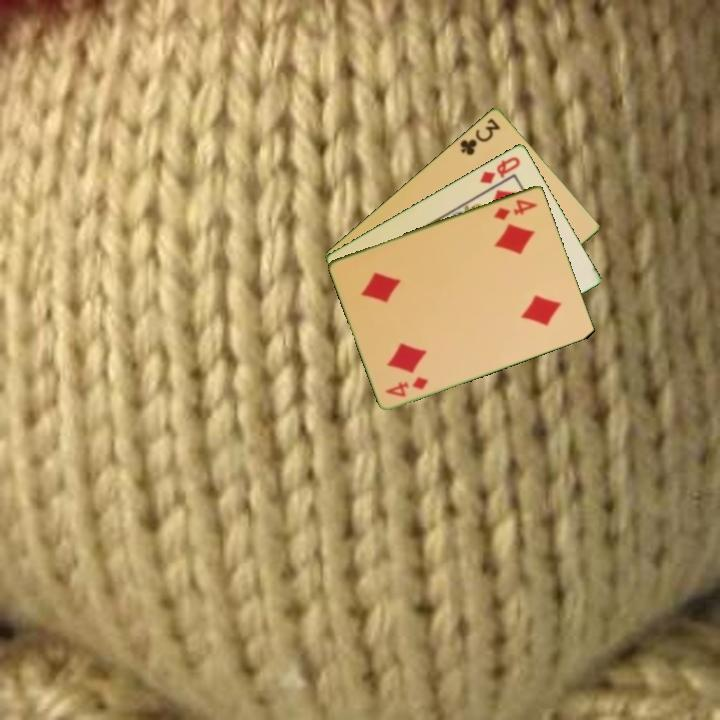3c: (456, 114, 503, 158)
4d: (489, 195, 540, 223), (381, 373, 431, 400)
Qd: (476, 153, 523, 187)
